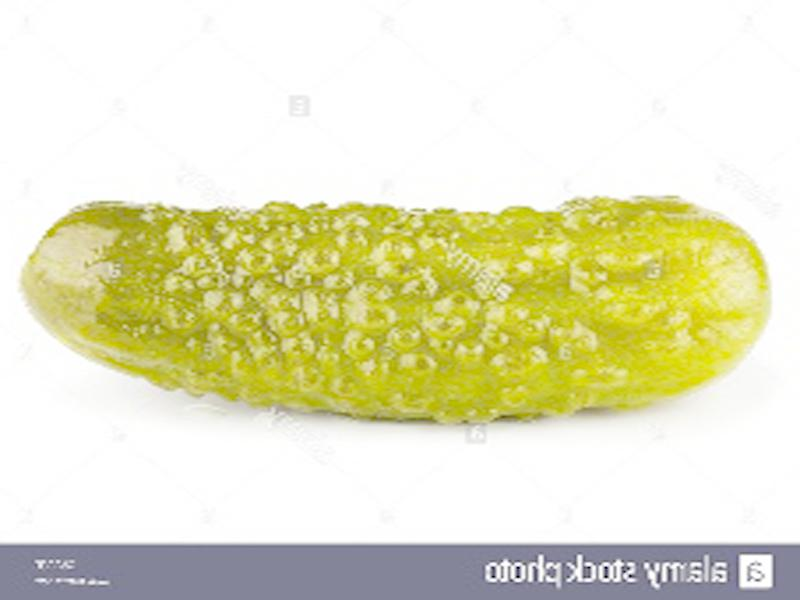Cucumber: (17, 196, 771, 423)
